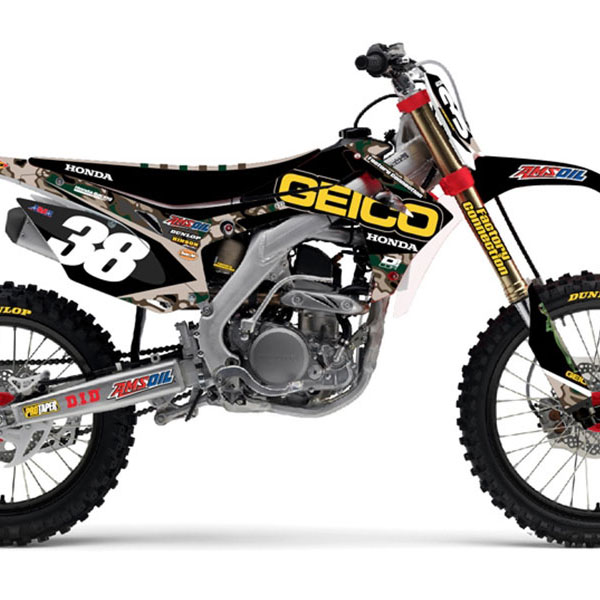geico: (275, 168, 440, 245)
